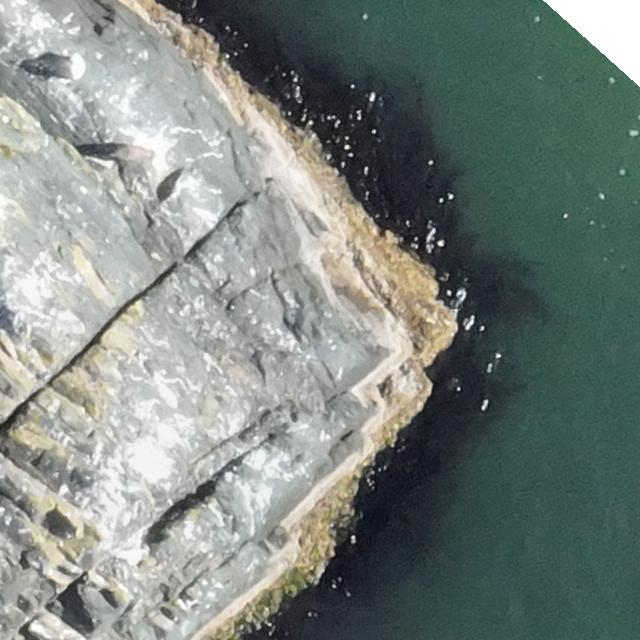umineko: (34, 56, 87, 78)
